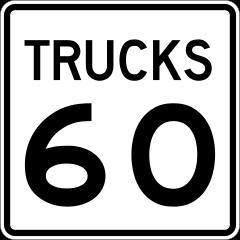Speed Limit -60-: (22, 89, 215, 219)
